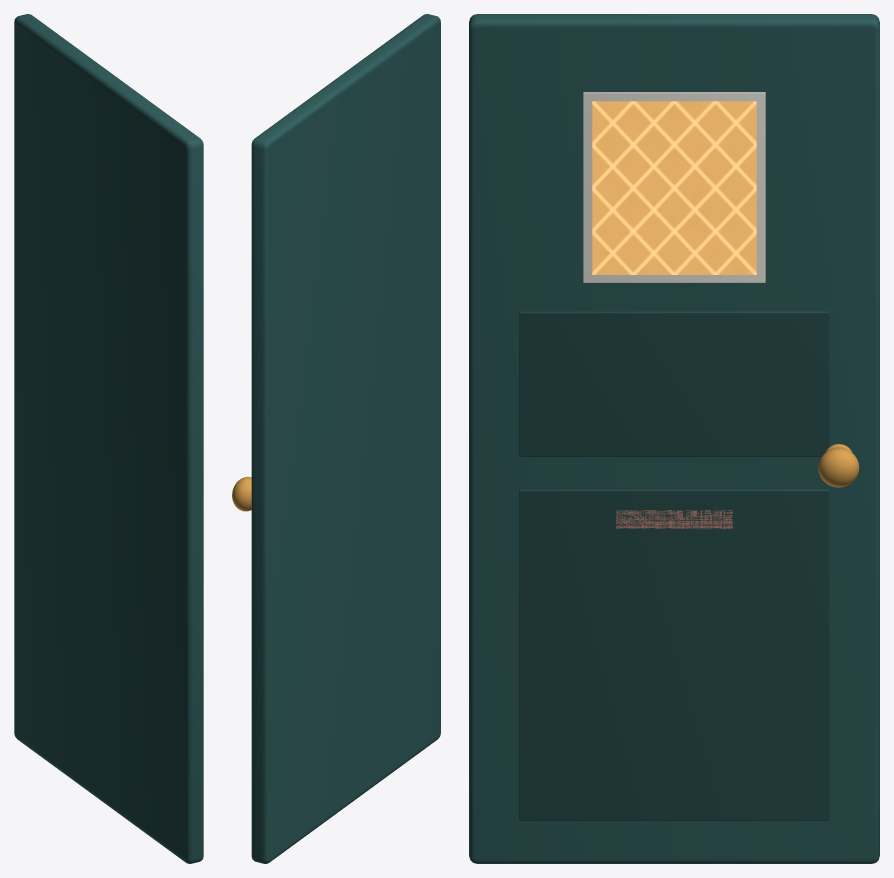
File: front_door.glb
3 renders of one model, left to right at view 1: azimuth 30°, elevation 25°; view 2: azimuth 150°, elevation 25°; view 3: azimuth 270°, elevation 25°, orthographic. The views are drawn at different scales.
Parts seen in each view (by area): view 1: Panel; view 2: Panel, Knob; view 3: Panel, Field0, Field1, Pane, PaneBead, Letterbox, Knob.
Part boxes in pixels (x1,y1,x2,y2): Panel: (14,14,203,863); Panel: (251,14,440,863); Knob: (232,476,251,511); Panel: (469,14,879,863); Field0: (519,489,829,820); Field1: (519,311,829,456); Pane: (592,101,756,274); PaneBead: (583,92,765,282); Letterbox: (616,510,732,529); Knob: (818,448,859,487).
Bounding box in the file's own units: 0.146 × 2.04 × 0.9.
6 materials, 1 textured.
